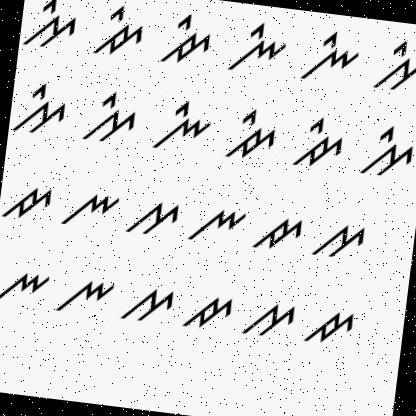ja: (177, 287, 237, 336), (0, 173, 54, 226), (250, 206, 306, 256), (301, 302, 358, 350)
ji: (222, 102, 284, 170), (153, 6, 217, 69), (288, 112, 348, 174), (91, 0, 150, 62)
nya: (56, 178, 122, 235), (186, 196, 250, 251), (53, 270, 116, 322), (0, 261, 53, 310)
nyi: (146, 94, 216, 158), (295, 23, 363, 88), (228, 17, 289, 76)
sa: (119, 188, 184, 243), (310, 212, 367, 268), (239, 295, 298, 347), (119, 279, 178, 329)
si: (11, 74, 73, 140), (78, 84, 140, 150), (352, 119, 416, 182), (18, 0, 84, 54), (368, 32, 416, 96)
